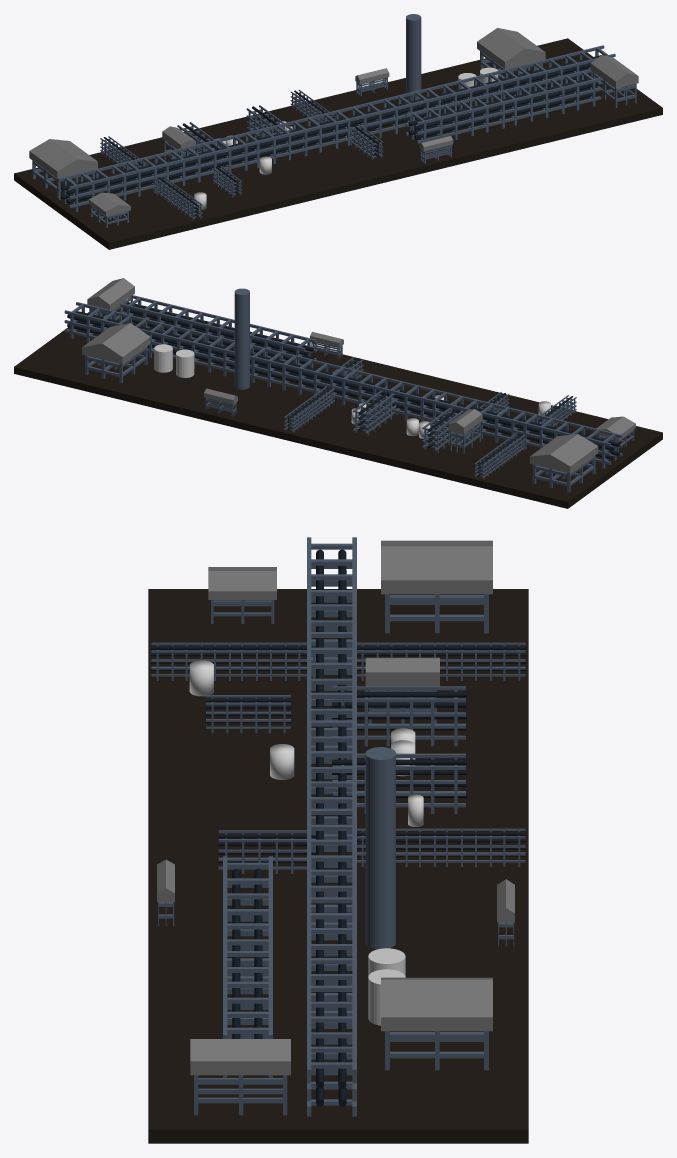
Rendered from LNG Train 1_long.fbx.
The picture shows the model from 3 angles, top to bottom: view 1: azimuth 30°, elevation 25°; view 2: azimuth 150°, elevation 25°; view 3: azimuth 270°, elevation 25°; orthographic projection. The views are drawn at different scales.
Parts seen in each view (by area): view 1: LNGTrain_l; view 2: LNGTrain_l; view 3: LNGTrain_l.
Part boxes in pixels (bbox=[...]): LNGTrain_l: bbox=[14, 14, 662, 249]; LNGTrain_l: bbox=[14, 278, 662, 508]; LNGTrain_l: bbox=[148, 537, 528, 1143].
Bounding box in the file's own units: 99.92 × 17.53 × 29.71.
